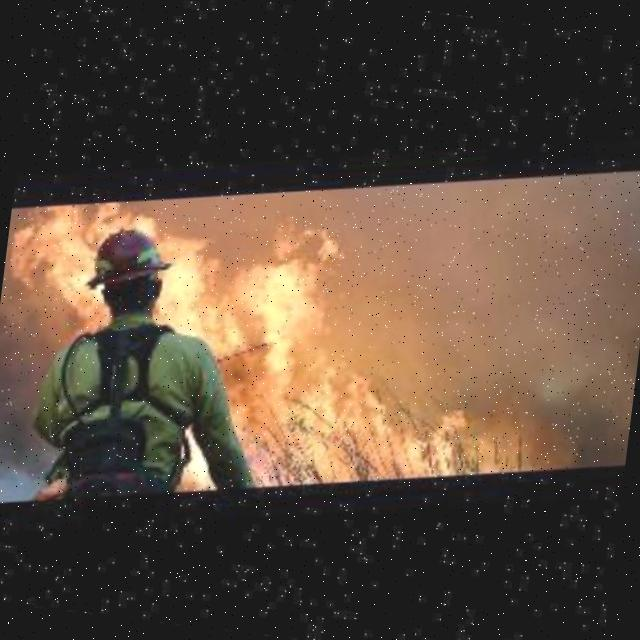fire: (212, 206, 493, 489), (6, 205, 115, 324), (160, 237, 224, 327)
